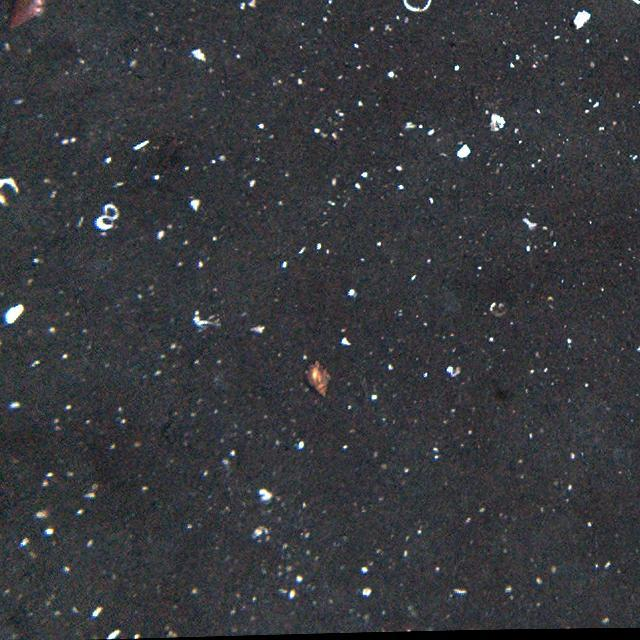whelk: (306, 360, 331, 399)
